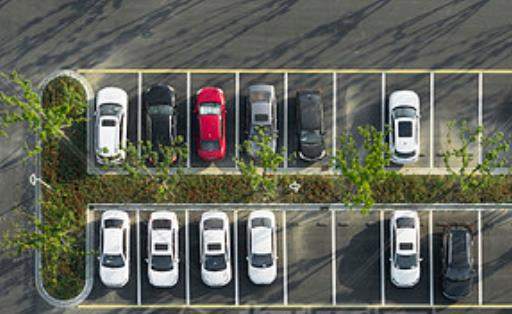car: (138, 81, 180, 167), (92, 83, 130, 168), (386, 209, 425, 289), (384, 87, 422, 164), (243, 208, 280, 287), (96, 210, 132, 288), (198, 207, 232, 289), (145, 210, 180, 288), (243, 83, 278, 158), (193, 85, 227, 162), (441, 224, 475, 301), (294, 88, 328, 162)
